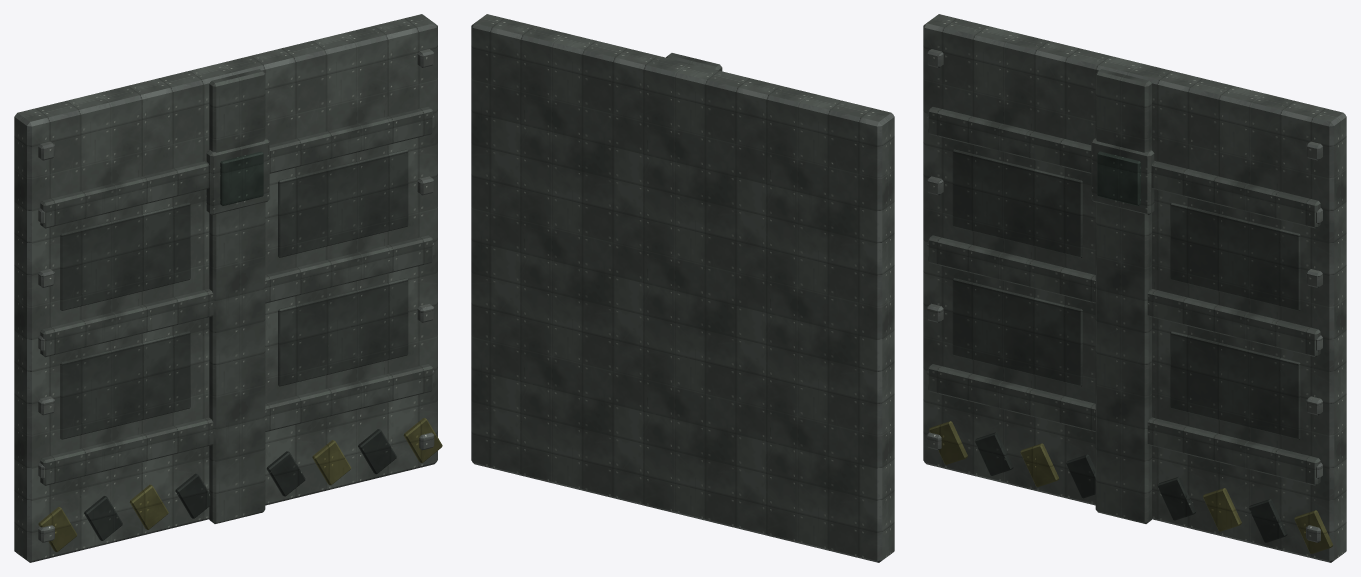
File: airlock_door.glb
3 renders of one model, left to right at view 1: azimuth 30°, elevation 25°; view 2: azimuth 150°, elevation 25°; view 3: azimuth 330°, elevation 25°, orthographic.
Visible parts, largest first — view 1: airlock_door; view 2: airlock_door; view 3: airlock_door.
Part boxes in pixels (box(x1,y1,x2,y2)): airlock_door: box(14, 14, 442, 562); airlock_door: box(471, 14, 894, 562); airlock_door: box(923, 14, 1346, 562).
Size of the model in its own units: 2.35 by 2.4 by 0.25.
1 material, 1 textured.
